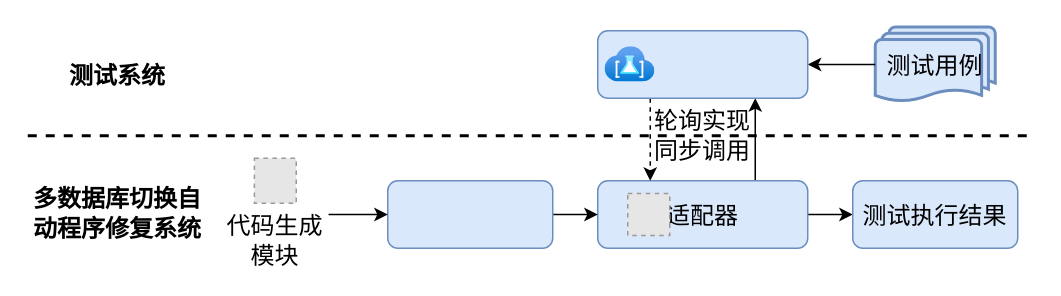
Some shapes in this 1061 by 296 pixel diagram are drawn without their labels. Grey dashed boxes stand in for pictures. Each missing label, with the box of its shape:
Jenkins: (596, 29, 808, 98)
SQL配置文件: (386, 179, 553, 248)
